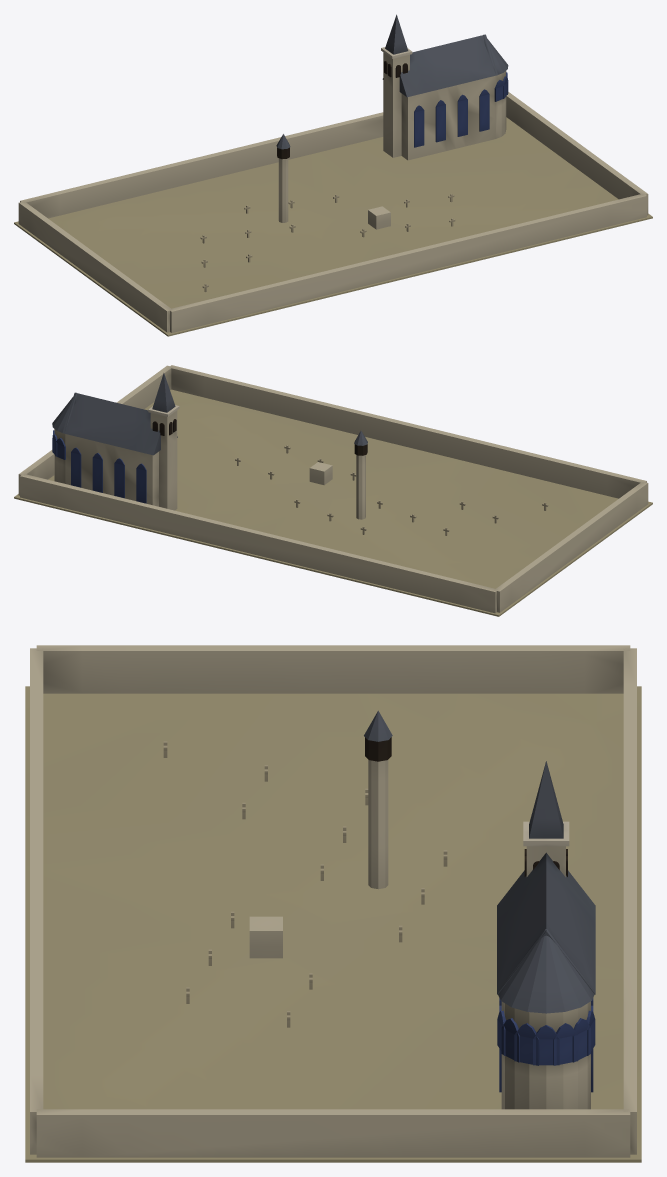
Rendered from innocents-1250.glb.
3 views of the same model, one above another, from view 1: azimuth 30°, elevation 25°; view 2: azimuth 150°, elevation 25°; view 3: azimuth 270°, elevation 25° (orthographic). The views are drawn at different scales.
Visible parts, largest first — view 1: p0_walls, p1_church, p2_charnels; view 2: p0_walls, p1_church, p2_charnels; view 3: p0_walls, p1_church, p2_charnels.
Part boxes in pixels (x1,y1,x2,y2): p0_walls: (14, 92, 652, 336); p1_church: (381, 14, 508, 160); p2_charnels: (200, 134, 455, 292); p0_walls: (14, 365, 652, 616); p1_church: (52, 373, 179, 510); p2_charnels: (235, 430, 548, 535); p0_walls: (25, 645, 641, 1162); p1_church: (497, 761, 595, 1109); p2_charnels: (163, 710, 447, 1027).
Bounding box in the file's own units: 100 × 27.5 × 55.
